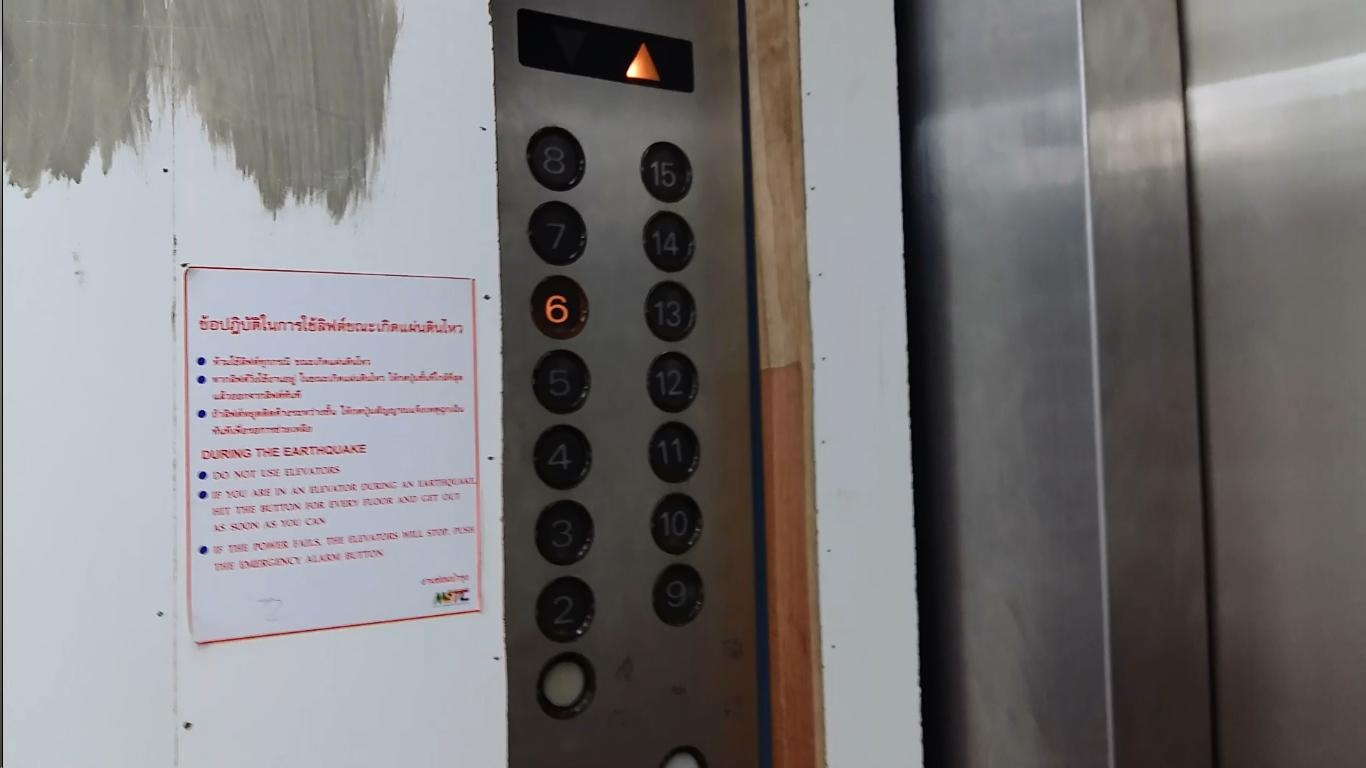10: (649, 492, 704, 554)
11: (646, 419, 701, 483)
12: (643, 348, 700, 415)
13: (641, 276, 698, 342)
14: (638, 207, 697, 275)
15: (637, 138, 696, 203)
2: (537, 572, 595, 640)
3: (533, 498, 595, 567)
4: (535, 424, 591, 489)
5: (532, 350, 591, 411)
6: (528, 274, 591, 339)
7: (528, 200, 589, 266)
8: (525, 125, 586, 191)
9: (651, 562, 703, 626)
empty: (532, 649, 596, 721)
led: (517, 8, 697, 94)
